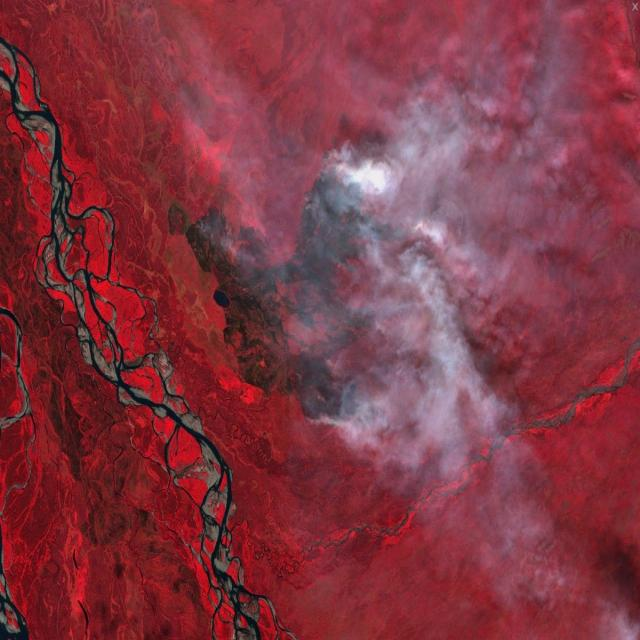fire: (290, 141, 421, 252), (301, 351, 365, 446), (190, 200, 240, 272), (357, 295, 392, 343)
